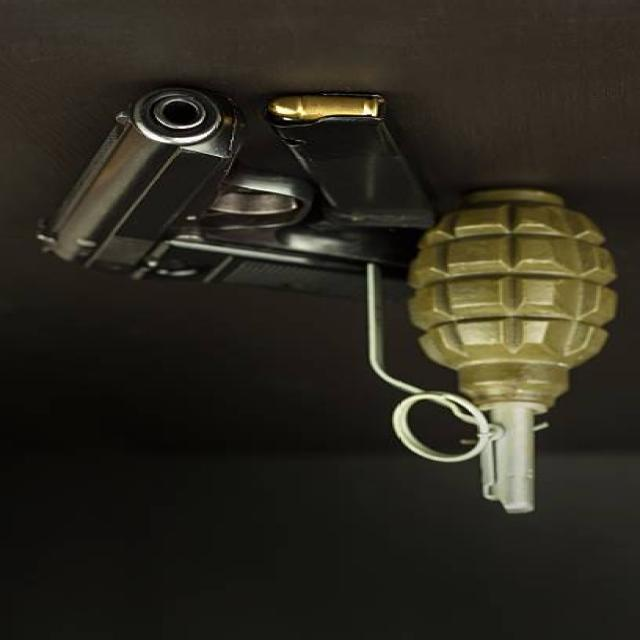grenade: (359, 185, 623, 522)
